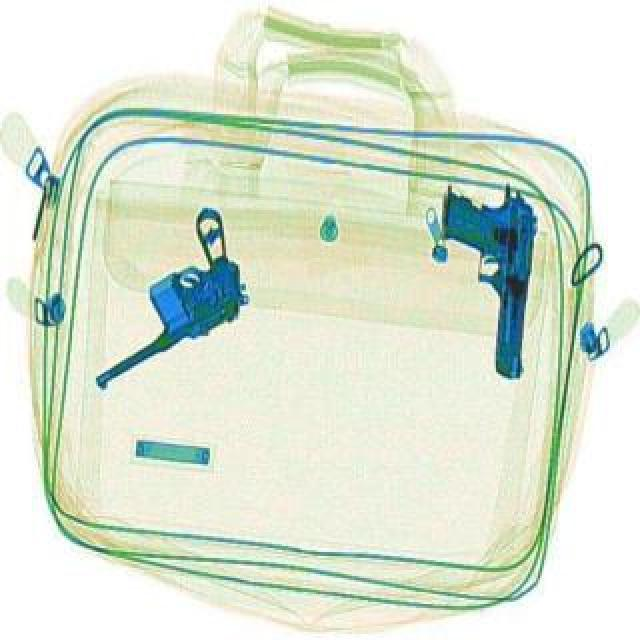gun: (38, 202, 274, 390), (432, 178, 536, 380)
